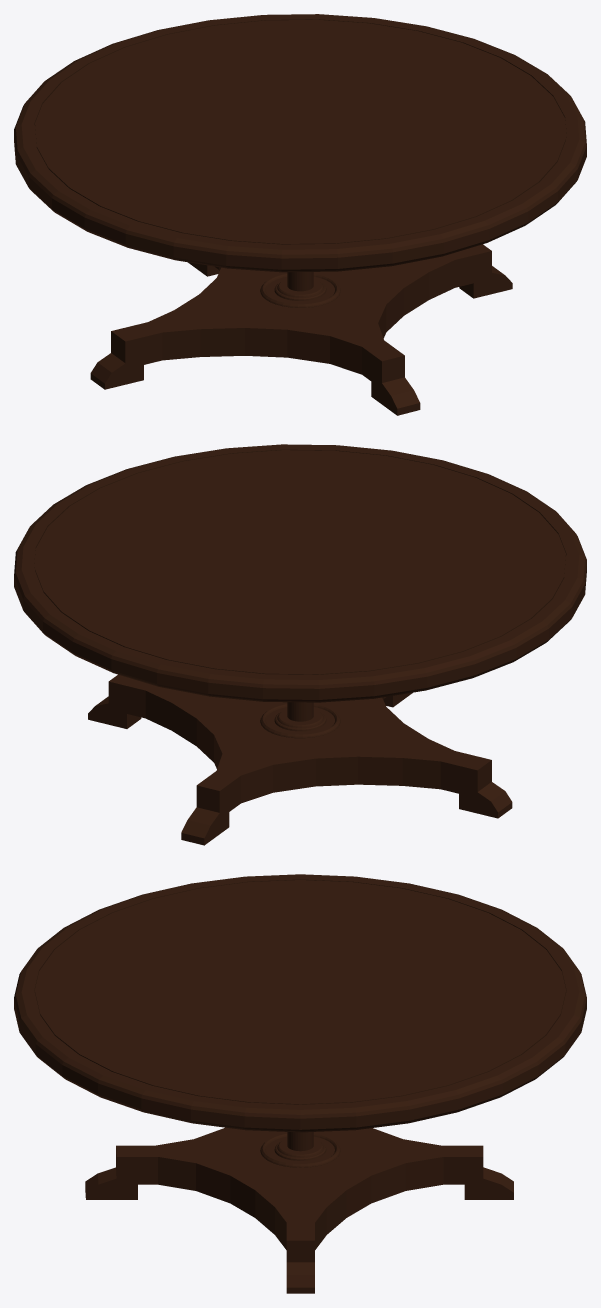
Rendered from round table.fbx.
3 views of the same model, one above another, from view 1: azimuth 30°, elevation 25°; view 2: azimuth 150°, elevation 25°; view 3: azimuth 270°, elevation 25° (orthographic).
Parts seen in each view (by area): view 1: Cube; view 2: Cube; view 3: Cube.
Part boxes in pixels (x1,y1,x2,y2): Cube: (14, 14, 586, 415); Cube: (14, 444, 586, 845); Cube: (14, 874, 586, 1293).
Bounding box in the file's own units: 171 × 171 × 66.29.
